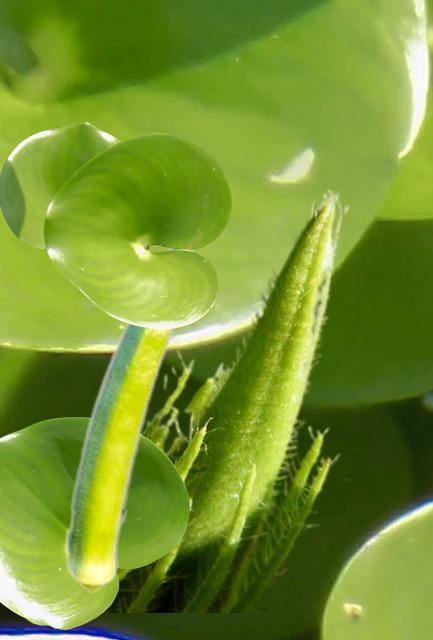okra: (106, 187, 349, 611), (65, 248, 198, 593)
